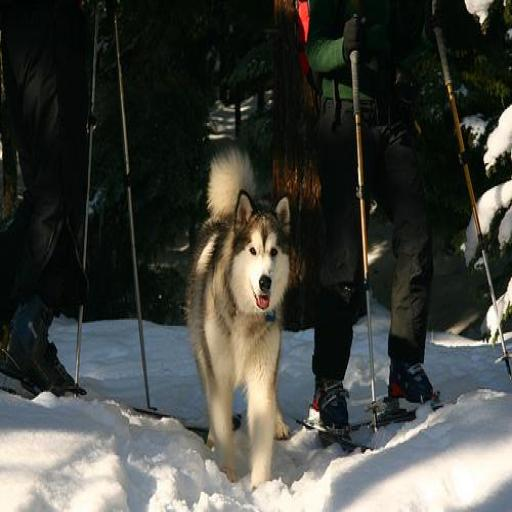dog_face: (234, 183, 292, 312)
